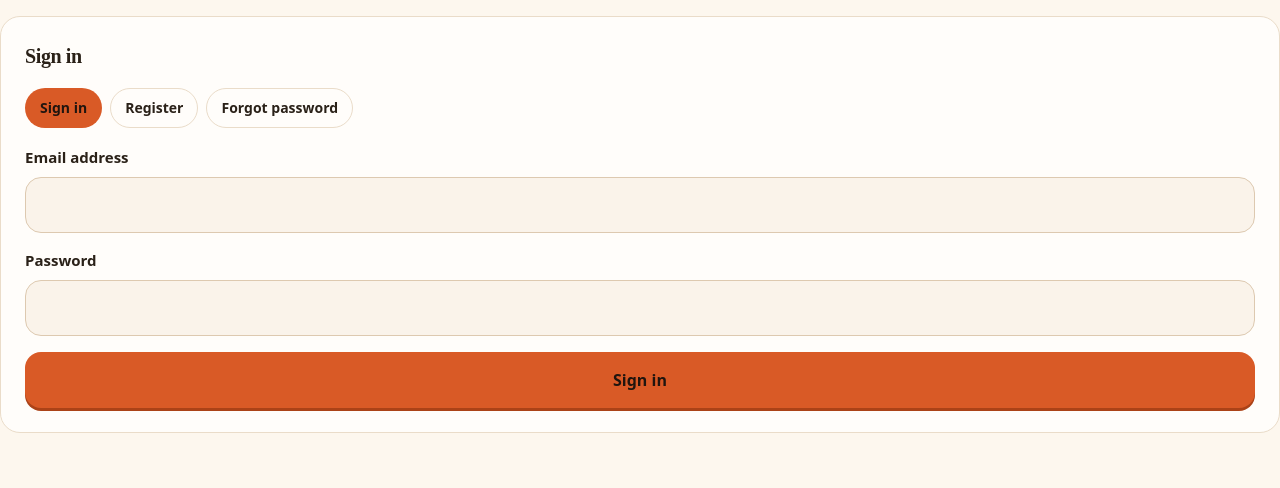
Test: AuthPanel › shows the failure when the credentials are wrong
Type "player@example.com" into the field labelled "Email address". click: (640, 205)
box: x1=25 y1=177 x2=1255 y2=233
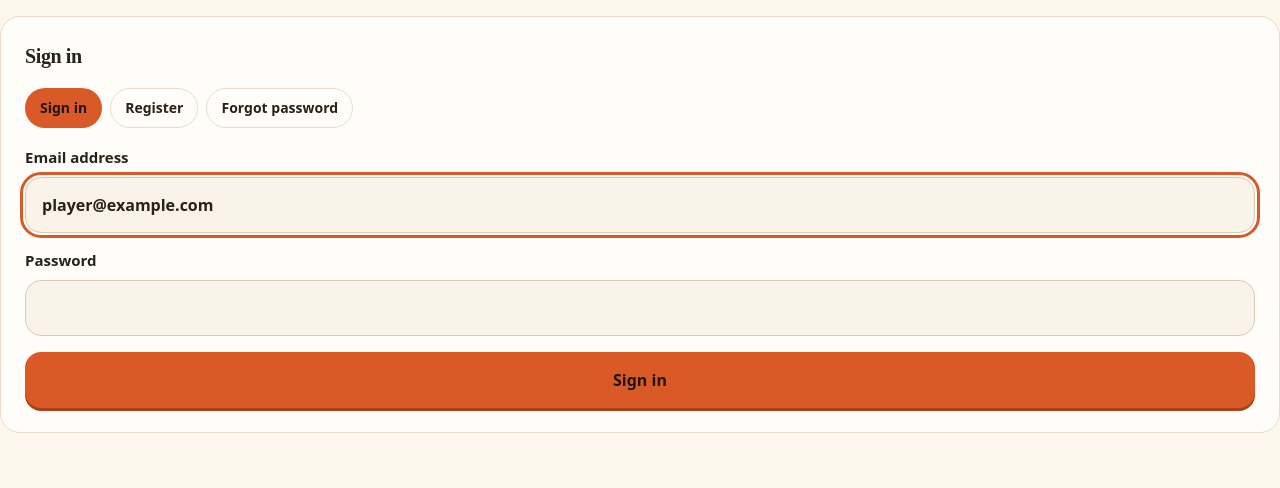
Type "wrongpassword" into the password field labelled "Password". click: (640, 308)
box: x1=25 y1=280 x2=1255 y2=336
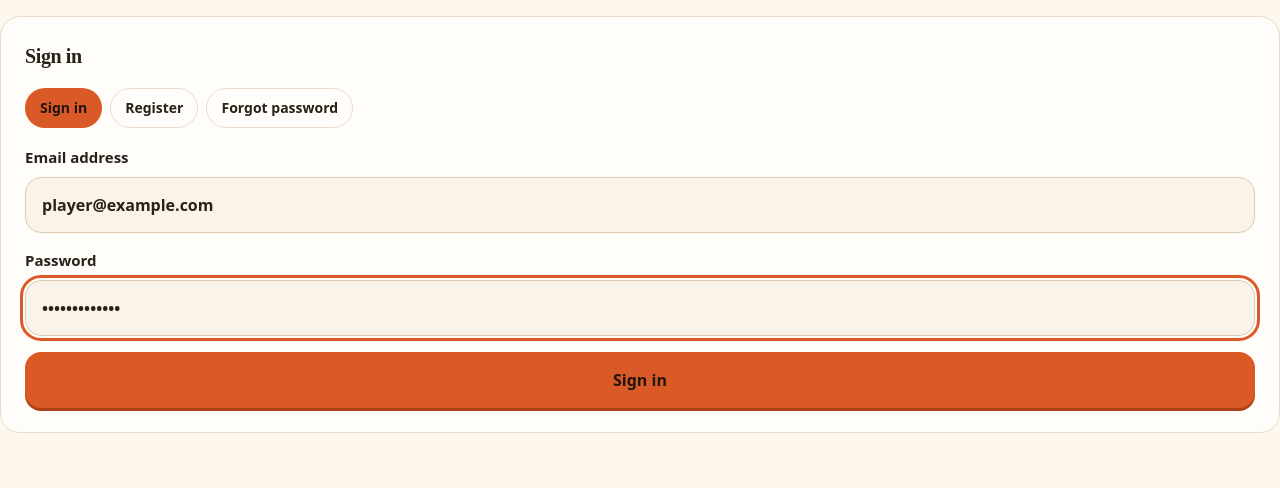
Click the button "Sign in". click: (640, 380)
box: x1=25 y1=352 x2=1255 y2=408
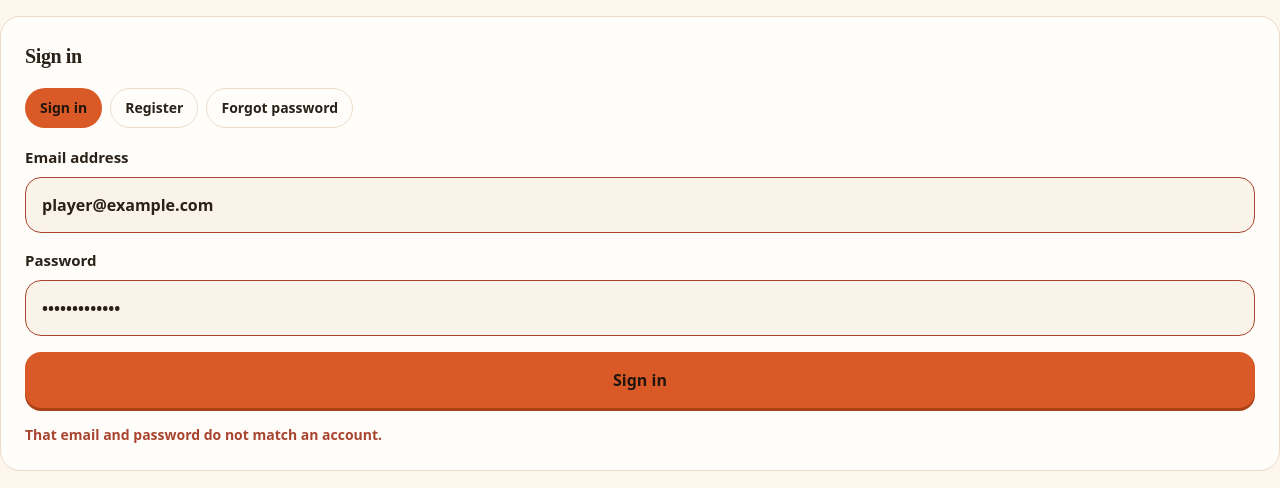
Now the message reads "That email and password do not match an account.", box x1=25 y1=425 x2=382 y2=444
